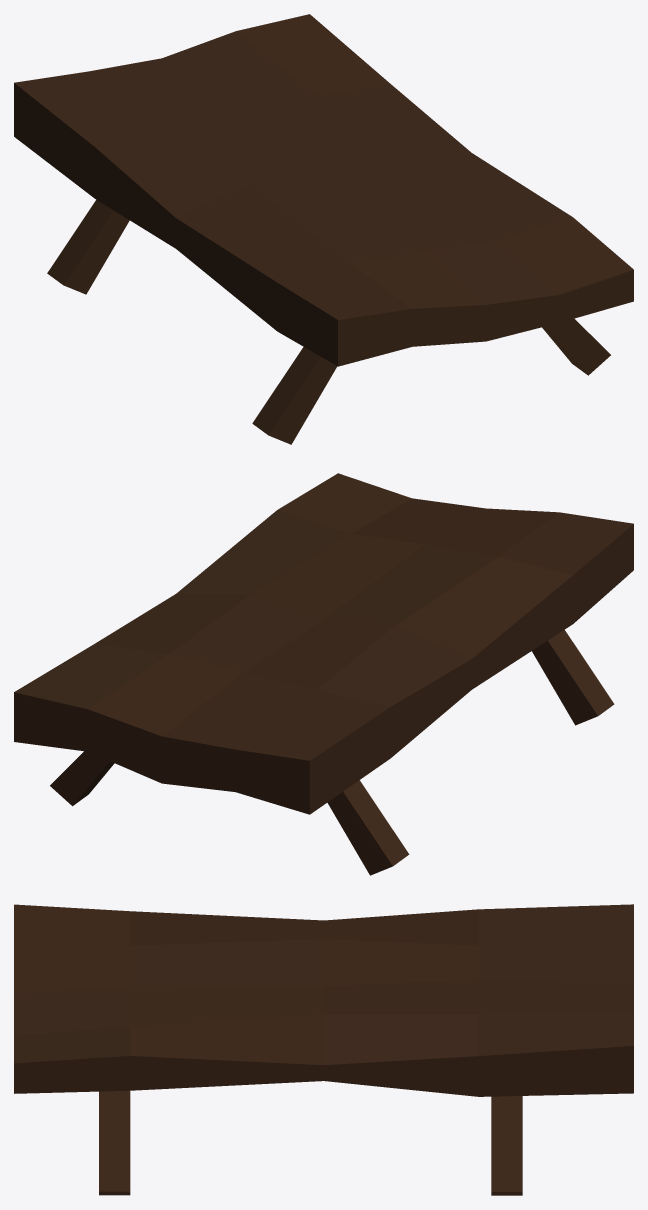
Rendered from table_low_fixed.fbx.
3 views of the same model, one above another, from view 1: azimuth 30°, elevation 25°; view 2: azimuth 150°, elevation 25°; view 3: azimuth 270°, elevation 25° (orthographic). The views are drawn at different scales.
Visible parts, largest first — view 1: Table Low; view 2: Table Low; view 3: Table Low.
Boxes of the visible parts, <box> form: Table Low: <box>14,14,633,444</box>; Table Low: <box>14,473,633,875</box>; Table Low: <box>14,904,633,1195</box>.
Bounding box in the file's own units: 122 × 54.55 × 200.
